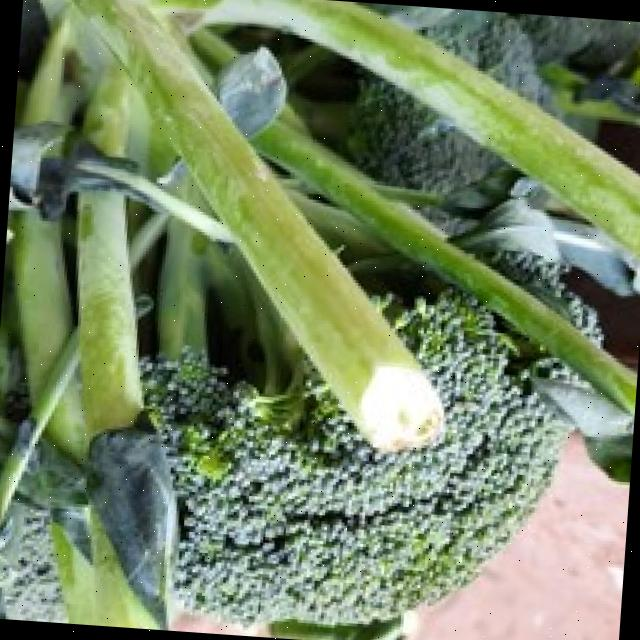Broccoli: (141, 291, 567, 623), (142, 291, 567, 621)
